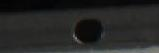holes: (71, 17, 107, 45)
